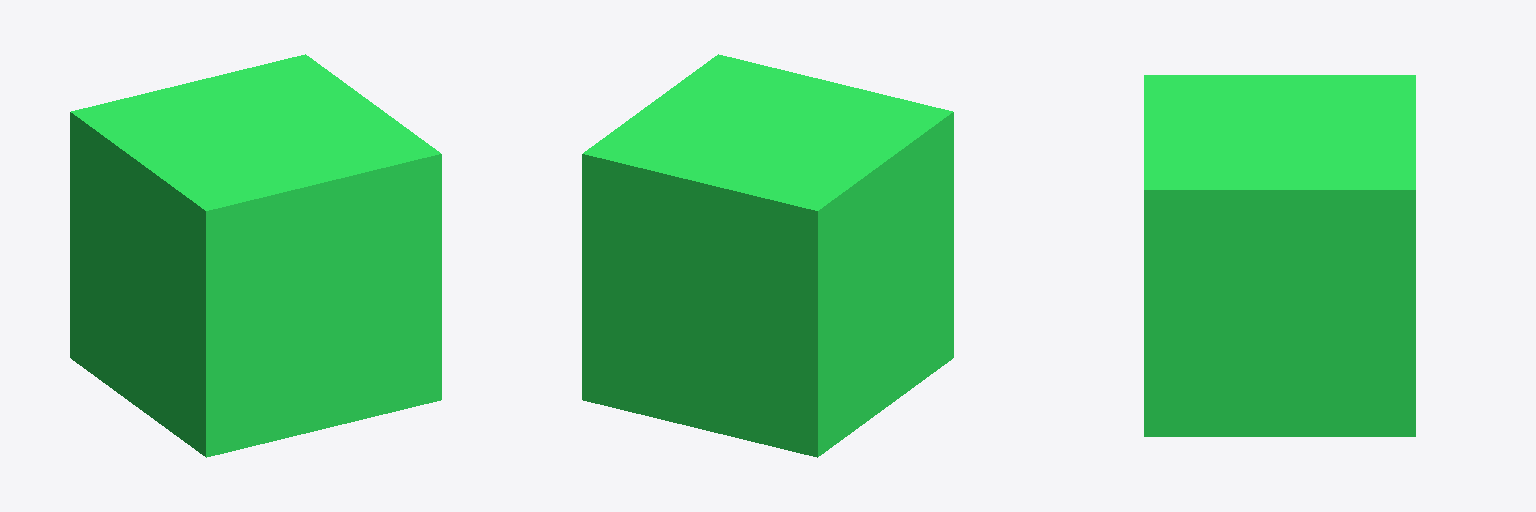
The picture shows the model from 3 angles: view 1: azimuth 30°, elevation 25°; view 2: azimuth 150°, elevation 25°; view 3: azimuth 270°, elevation 25°; orthographic projection.
Visible parts, largest first — view 1: Cube; view 2: Cube; view 3: Cube.
Part boxes in pixels (x1,y1,x2,y2): Cube: (70,54,441,457); Cube: (582,54,953,457); Cube: (1144,75,1415,436).
Size of the model in its own units: 4 by 4 by 4.
1 materials, 1 textured.